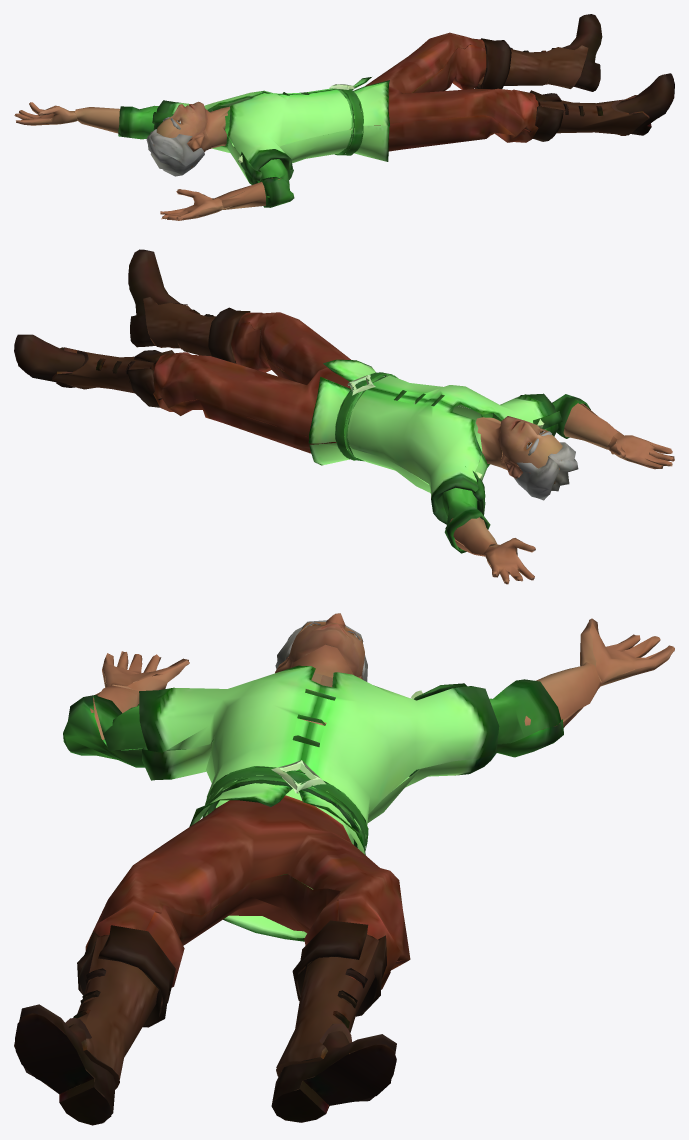
Rendered from dbody1.glb.
3 renders of one model, top to bottom at view 1: azimuth 30°, elevation 25°; view 2: azimuth 150°, elevation 25°; view 3: azimuth 270°, elevation 25°, orthographic. The views are drawn at different scales.
Visible parts, largest first — view 1: Male_Peasant_Arms_baked; view 2: Male_Peasant_Arms_baked; view 3: Male_Peasant_Arms_baked.
Boxes of the visible parts, <box> form: Male_Peasant_Arms_baked: <box>14,14,674,220</box>; Male_Peasant_Arms_baked: <box>14,249,674,584</box>; Male_Peasant_Arms_baked: <box>14,613,674,1125</box>.
Size of the model in its own units: 1.35 by 0.2178 by 0.8014.
10 materials, 10 textured.
